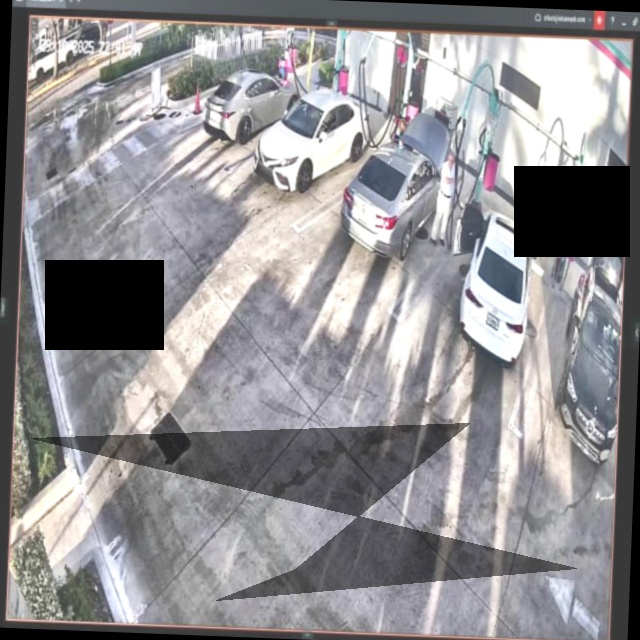Car: (340, 109, 446, 256), (455, 203, 538, 367), (253, 88, 370, 193), (204, 71, 300, 142)
